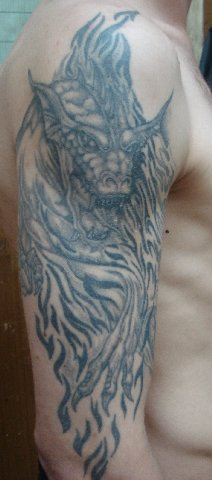tatu6_drakon: (11, 1, 189, 475)
